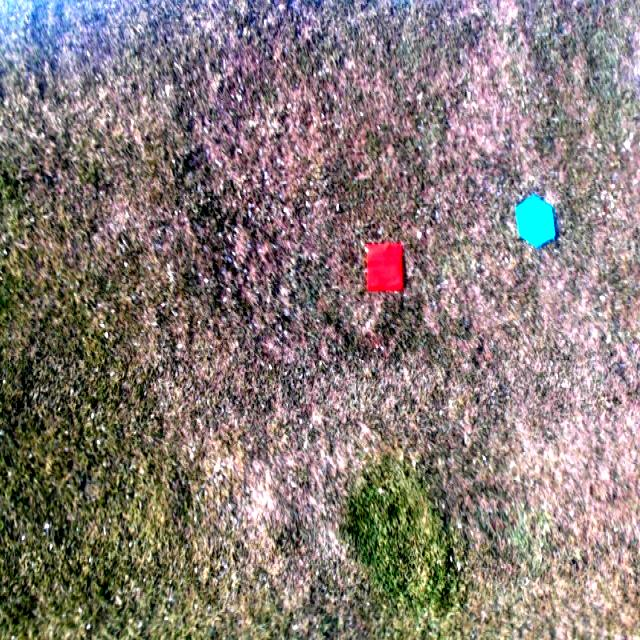blue_hexagon: (515, 192, 557, 253)
red_square: (368, 244, 404, 291)
